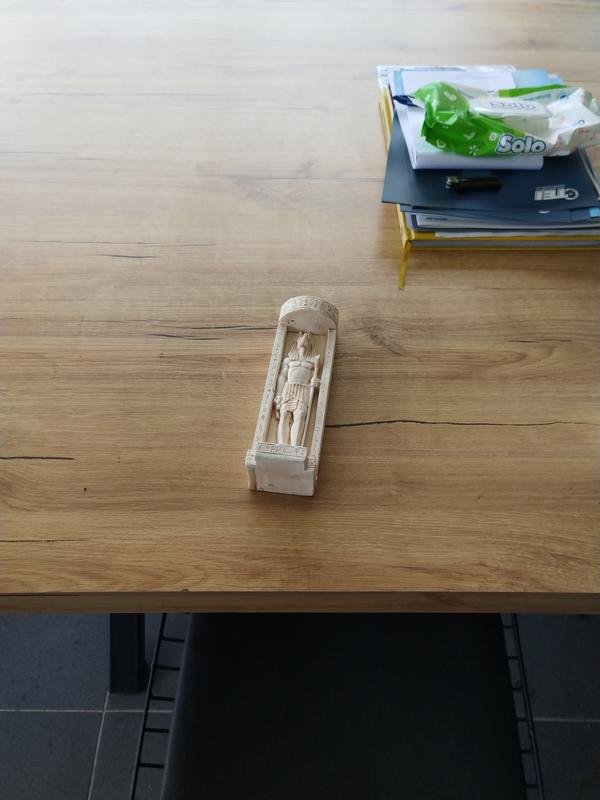heykel: (240, 291, 345, 504)
